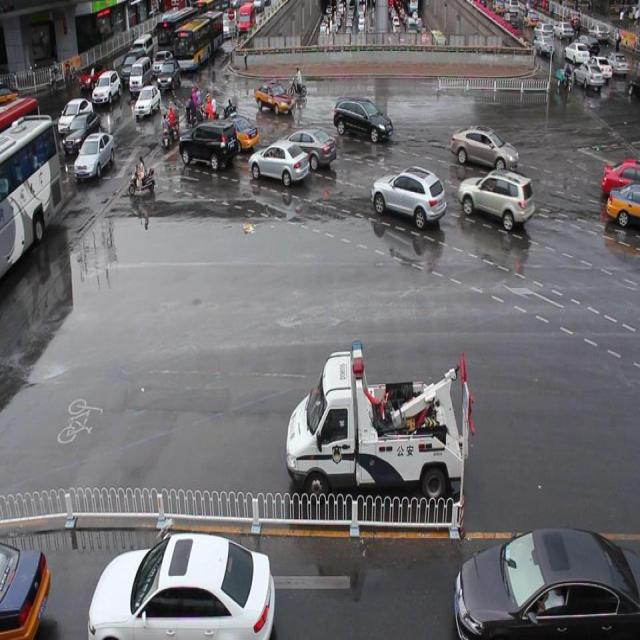bus: (285, 338, 464, 498)
car: (456, 166, 534, 229), (371, 166, 447, 230), (449, 122, 517, 174), (248, 137, 310, 185), (333, 95, 392, 143), (276, 126, 336, 170), (604, 179, 640, 230), (213, 114, 259, 152), (600, 160, 640, 199), (254, 80, 294, 116)
truck: (179, 118, 237, 168)
